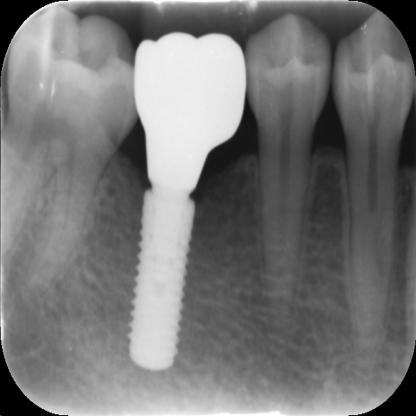ITI: (124, 190, 199, 374)
